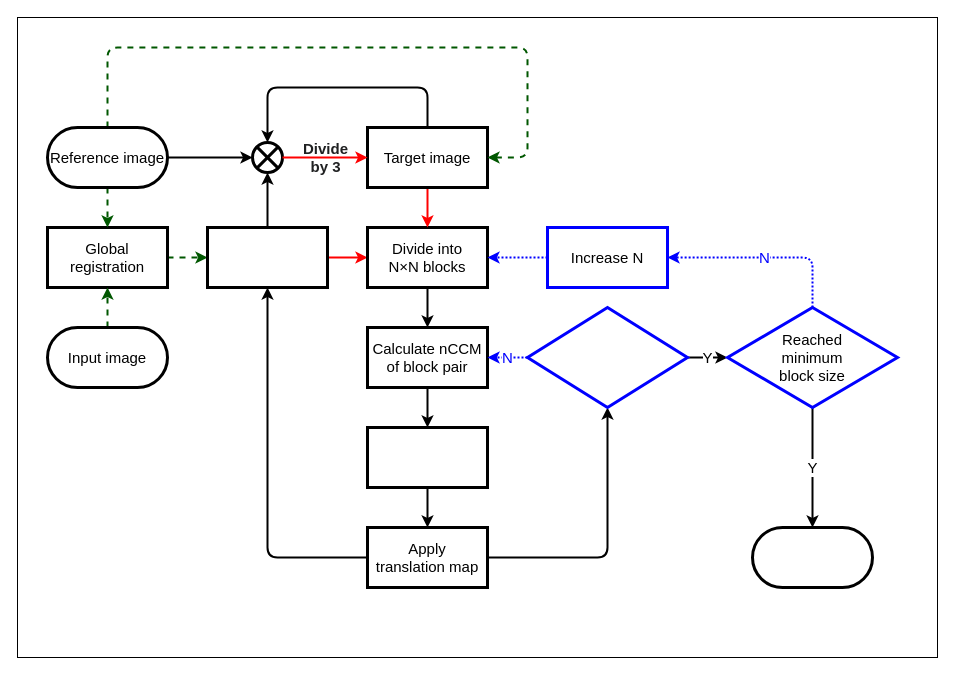
Some shapes in this 955 by 675 pixel diagram are drawn without their labels. The shapes that lost their labels are listed below. From the top down, each one's centre as x and y in pixels, then its label:
point 267,257: Warped Image
point 607,357: Shift error is below tolerance
point 427,457: Generate translation map
point 812,557: Output image
